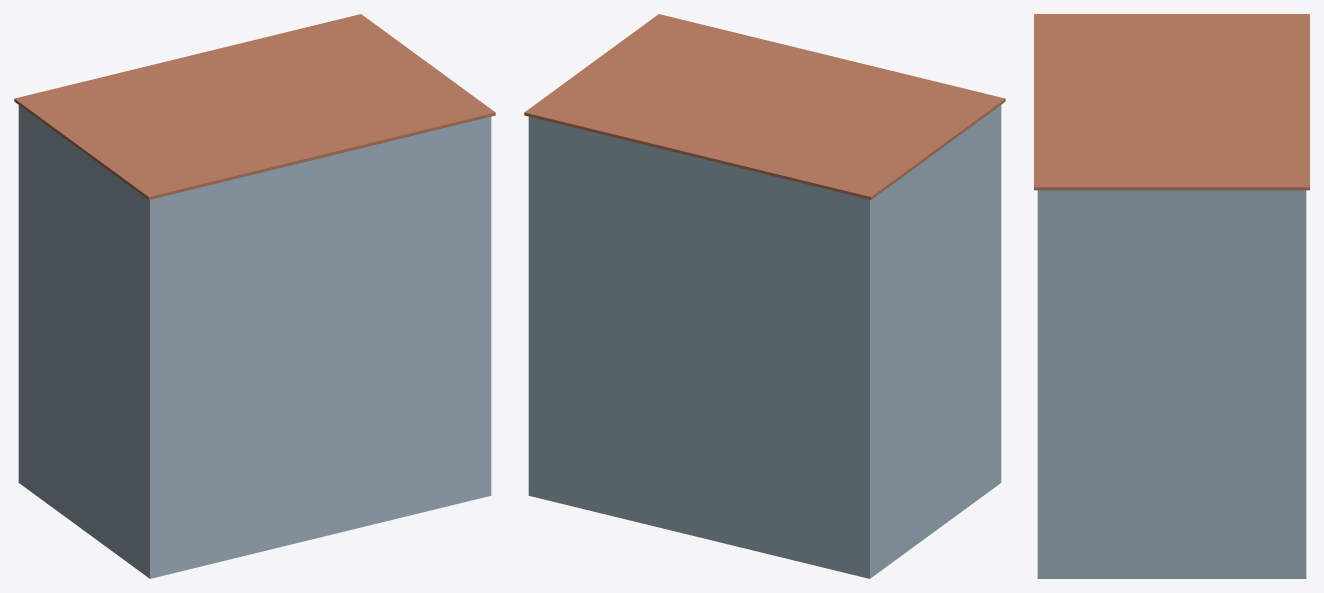
The model's file is building.glb.
3 renders of one model, left to right at view 1: azimuth 30°, elevation 25°; view 2: azimuth 150°, elevation 25°; view 3: azimuth 270°, elevation 25°, orthographic. The views are drawn at different scales.
Visible parts, largest first — view 1: A01; view 2: A01; view 3: A01.
Part boxes in pixels (left/top/right/bottom): A01: left=14, top=14, right=495, bottom=578; A01: left=524, top=14, right=1005, bottom=578; A01: left=1034, top=14, right=1309, bottom=578.
Size of the model in its own units: 18.3 by 19.35 by 12.3.
